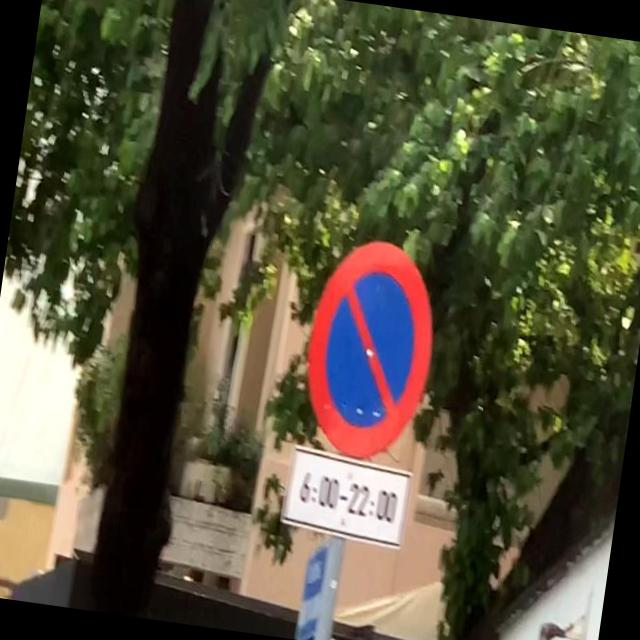P-131a: (295, 232, 446, 469)
